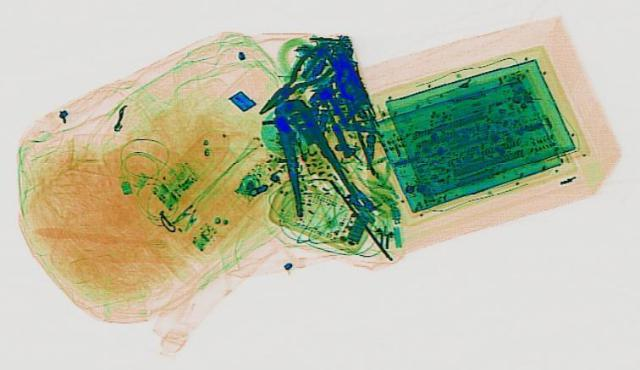Pliers: (255, 94, 363, 216), (239, 44, 349, 117)
